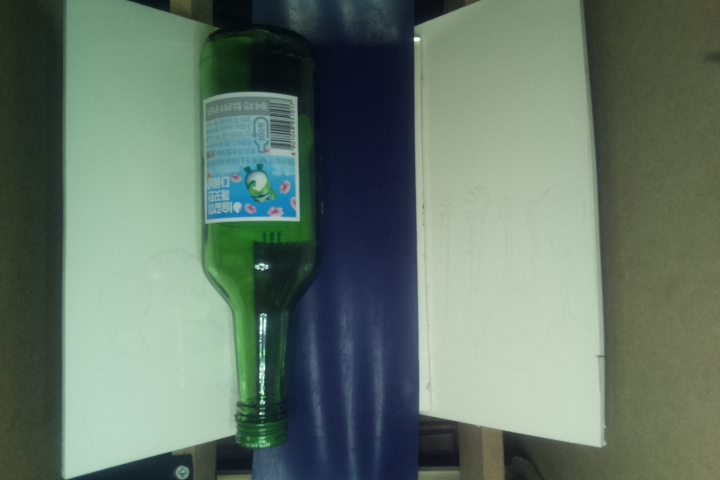soju: (200, 27, 318, 449)
